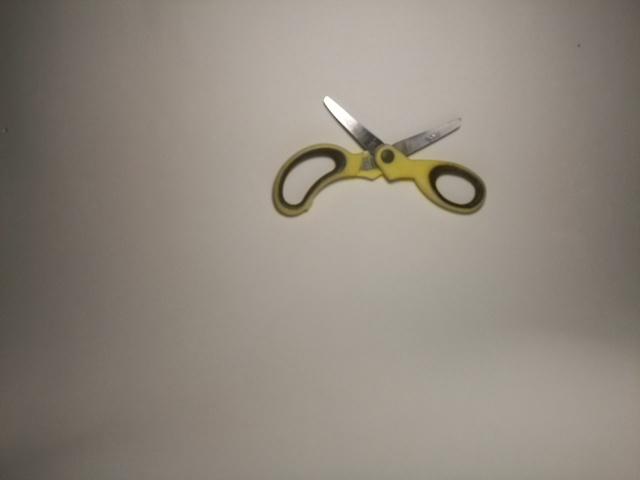Tesoura: (263, 93, 493, 237)
